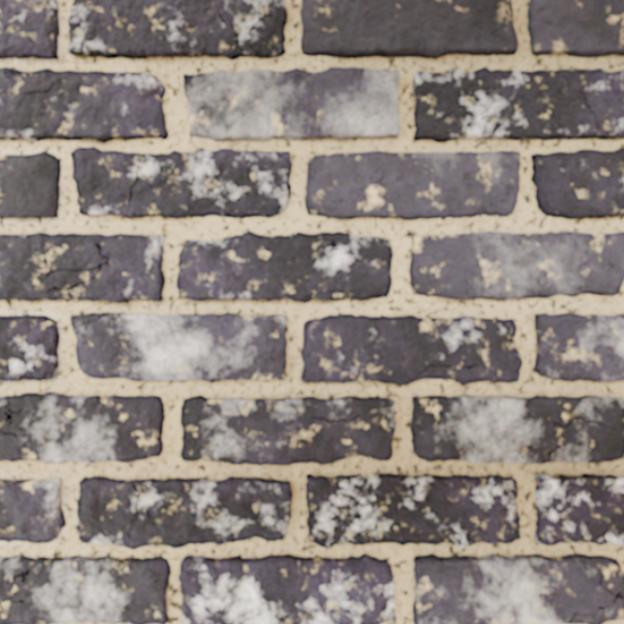brick: (72, 148, 291, 219), (184, 68, 399, 140), (306, 475, 521, 547), (77, 477, 292, 549), (414, 68, 623, 142), (302, 315, 522, 385), (177, 232, 392, 302), (179, 555, 395, 623), (71, 314, 286, 382), (306, 152, 519, 220), (182, 396, 395, 464), (410, 232, 623, 299), (414, 555, 623, 623), (412, 396, 623, 463), (68, 0, 286, 59), (302, 0, 517, 58), (0, 69, 168, 140), (0, 556, 170, 623), (0, 233, 165, 302), (0, 393, 164, 462), (533, 149, 623, 219), (536, 475, 623, 546), (535, 314, 623, 381), (528, 0, 623, 57), (572, 600, 623, 623), (0, 68, 18, 72)
broken_brick: (0, 477, 66, 544), (0, 151, 62, 219), (0, 315, 60, 383), (0, 0, 60, 60)
crack: (569, 575, 623, 623), (0, 569, 31, 605), (0, 402, 24, 439), (0, 82, 55, 96), (79, 313, 128, 327), (301, 289, 355, 301), (181, 566, 207, 576), (0, 70, 22, 75), (54, 207, 58, 217), (42, 56, 48, 60)
